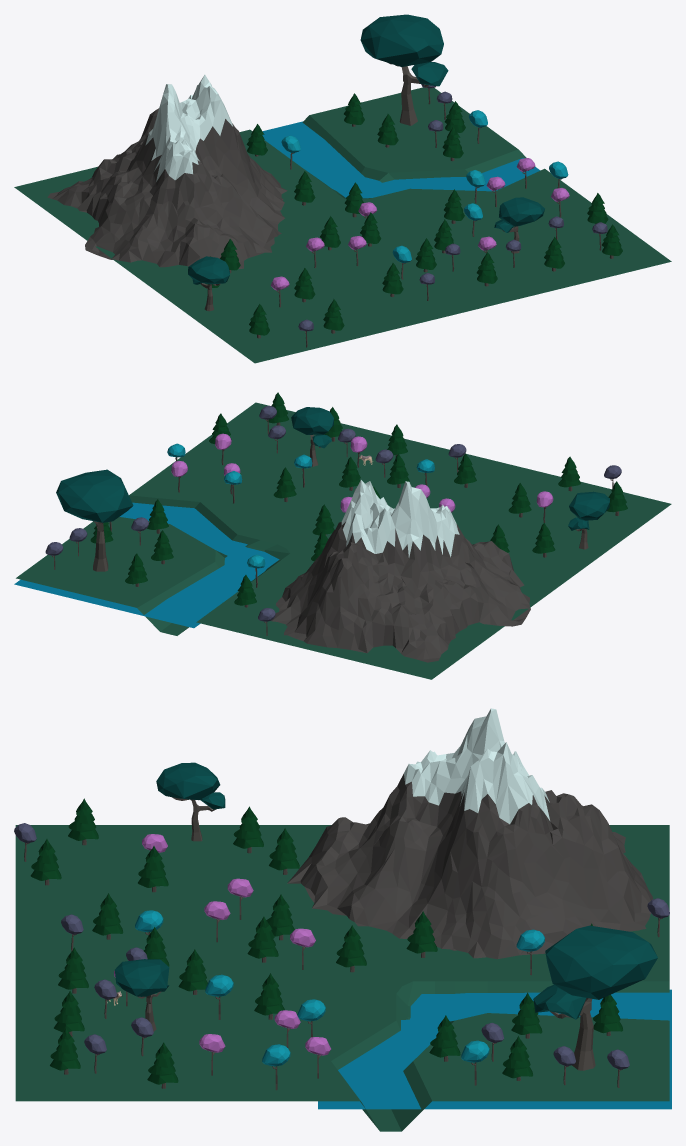
The model's file is LPS-non.glb.
3 renders of one model, top to bottom at view 1: azimuth 30°, elevation 25°; view 2: azimuth 150°, elevation 25°; view 3: azimuth 270°, elevation 25°, orthographic. The views are drawn at different scales.
Parts seen in each view (by area): view 1: Ground, Landscape, Plane, big-tree.003, big-tree.002, big-tree.001; view 2: Ground, Landscape, Plane, big-tree.003, big-tree.002, big-tree.001, firtree.002, firtree.018, firtree.001, firtree.004, firtree.005, firtree.008 (+5 smaller); view 3: Ground, Landscape, Plane, big-tree.003, big-tree.001, big-tree.002, firtree.006, firtree.015, firtree.001, firtree.020, firtree.003, firtree.009 (+14 smaller).
Boxes of the visible parts, x1,y1,x2,y2 form: Ground: (14, 87, 671, 363); Landscape: (47, 74, 287, 268); Plane: (262, 121, 540, 198); big-tree.003: (360, 14, 448, 125); big-tree.002: (494, 197, 544, 253); big-tree.001: (188, 256, 229, 311); Ground: (16, 402, 671, 679); Landscape: (271, 480, 530, 662); Plane: (14, 502, 279, 628); big-tree.003: (56, 469, 133, 571); big-tree.002: (291, 407, 333, 466); big-tree.001: (568, 491, 609, 549); firtree.002: (532, 523, 555, 557); firtree.018: (273, 467, 296, 502); firtree.001: (508, 483, 531, 517); firtree.004: (558, 456, 580, 491); firtree.005: (454, 453, 476, 487); firtree.008: (387, 453, 409, 488); Ground: (15, 825, 669, 1131); Landscape: (287, 708, 652, 959); Plane: (318, 989, 671, 1109); big-tree.003: (533, 925, 657, 1070); big-tree.001: (156, 762, 225, 841); big-tree.002: (115, 959, 169, 1031); firtree.006: (269, 828, 299, 874); firtree.015: (336, 925, 366, 972); firtree.001: (138, 846, 168, 892); firtree.020: (50, 1028, 80, 1074); firtree.003: (406, 911, 437, 957); firtree.009: (247, 916, 278, 962).
Size of the model in its own units: 52.41 by 16.87 by 50.31.
